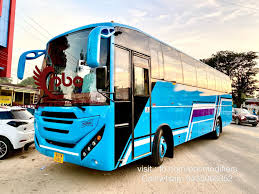bus: (16, 20, 233, 172)
